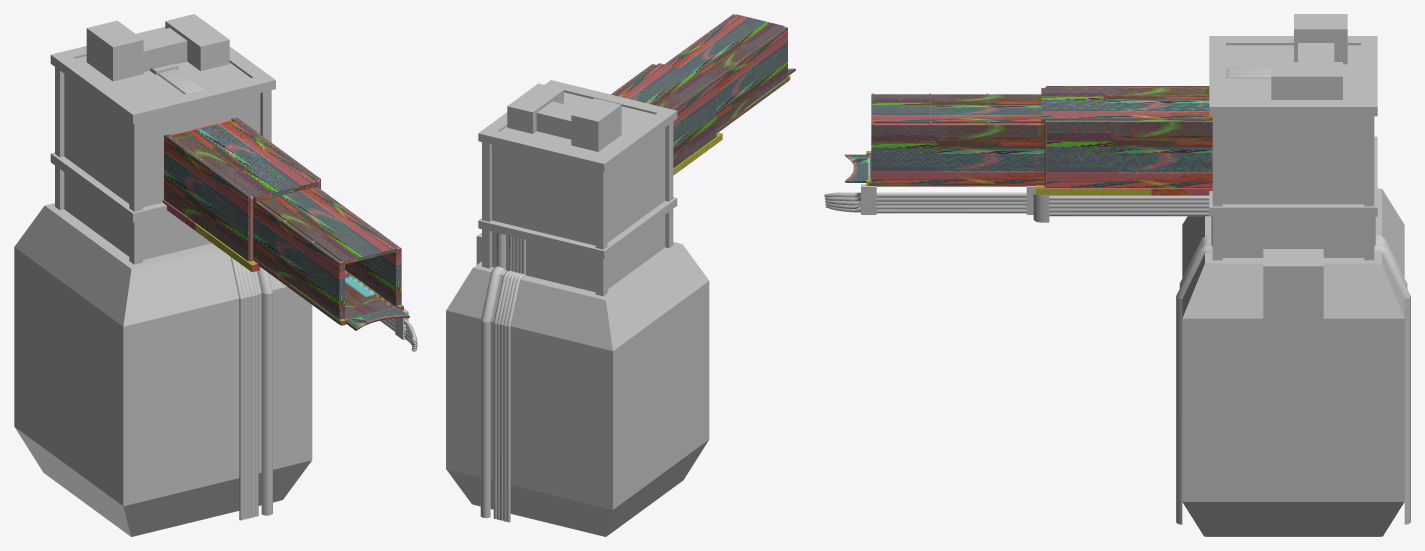
The model's file is Launch_Tower_Lg.FBX.
3 views of the same model, side by side, from view 1: azimuth 30°, elevation 25°; view 2: azimuth 150°, elevation 25°; view 3: azimuth 270°, elevation 25° (orthographic). The views are drawn at different scales.
Parts seen in each view (by area): view 1: Base, Cap, Base_Col, Base_Pipes, WalkwayLg_Col002, WalkwayLg_Col003, WalkwaySm_Col002, Tower, WalkwaySm_Col003, WalkwaySm_Col001, WalkwaySm, WalkwayLG (+1 smaller); view 2: Base, Cap, Base_Col, Base_Pipes, Tower, WalkwaySm_Col002, WalkwaySm_Col003, WalkwayLg_Col002, WalkwayLg_Col003; view 3: Base, Cap, WalkwayLg_Col001, Base_Col, WalkwaySm_Col001, Tower, WalkwayLg_Col003, WalkwaySm_Col003, Base_Pipes, WalkwaySm_Pipes, WalkwayLg_Pipes, Base_Col_Elev (+3 smaller).
Boxes of the visible parts, x1,y1,x2,y2 form: Base: [14, 204, 312, 536]; Cap: [50, 14, 275, 222]; Base_Col: [14, 203, 286, 326]; Base_Pipes: [230, 257, 272, 520]; WalkwayLg_Col002: [164, 134, 253, 260]; WalkwayLg_Col003: [171, 120, 318, 201]; WalkwaySm_Col002: [253, 201, 344, 319]; Tower: [55, 165, 211, 264]; WalkwaySm_Col003: [259, 187, 397, 264]; WalkwaySm_Col001: [314, 187, 401, 306]; WalkwaySm: [253, 188, 403, 325]; WalkwayLG: [162, 119, 320, 272]; Base: [446, 232, 709, 536]; Cap: [478, 80, 677, 258]; Base_Col: [446, 242, 709, 350]; Base_Pipes: [480, 266, 525, 522]; Tower: [482, 209, 673, 296]; WalkwaySm_Col002: [715, 27, 787, 128]; WalkwaySm_Col003: [667, 14, 784, 77]; WalkwayLg_Col002: [671, 78, 716, 168]; WalkwayLg_Col003: [615, 63, 714, 108]; Base: [1182, 189, 1404, 536]; Cap: [1209, 14, 1377, 216]; WalkwayLg_Col001: [1046, 119, 1212, 187]; Base_Col: [1182, 188, 1404, 318]; WalkwaySm_Col001: [871, 123, 1044, 183]; Tower: [1211, 216, 1375, 260]; WalkwayLg_Col003: [1041, 88, 1212, 124]; WalkwaySm_Col003: [871, 95, 1041, 122]; Base_Pipes: [1176, 235, 1410, 524]; WalkwaySm_Pipes: [861, 184, 1035, 214]; WalkwayLg_Pipes: [1033, 193, 1209, 222]; Base_Col_Elev: [1263, 267, 1323, 321].
Bounding box in the file's own units: 452 × 1009 × 1162.
